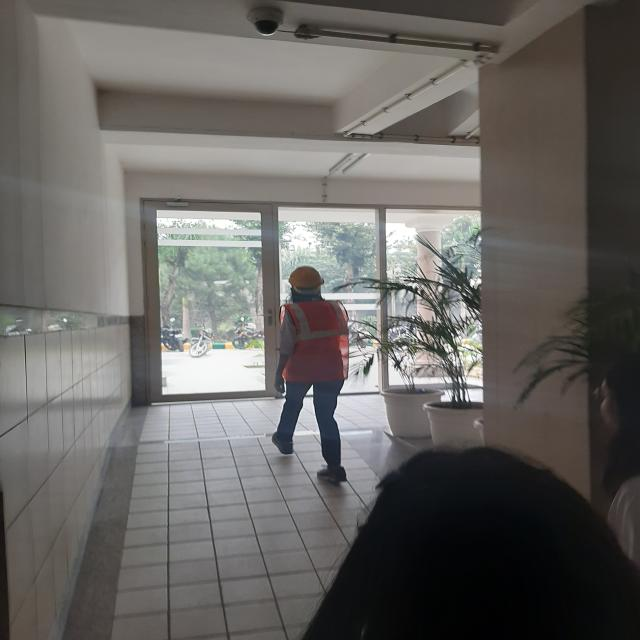safe: (256, 261, 366, 485)
